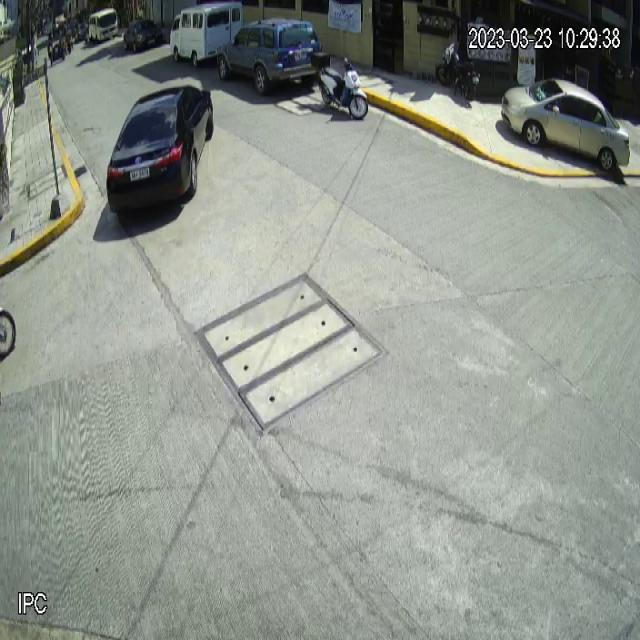Car: (106, 84, 214, 214), (501, 76, 631, 172), (217, 18, 323, 95)
Motorcycle: (311, 50, 368, 120)
Van: (169, 1, 243, 68)
